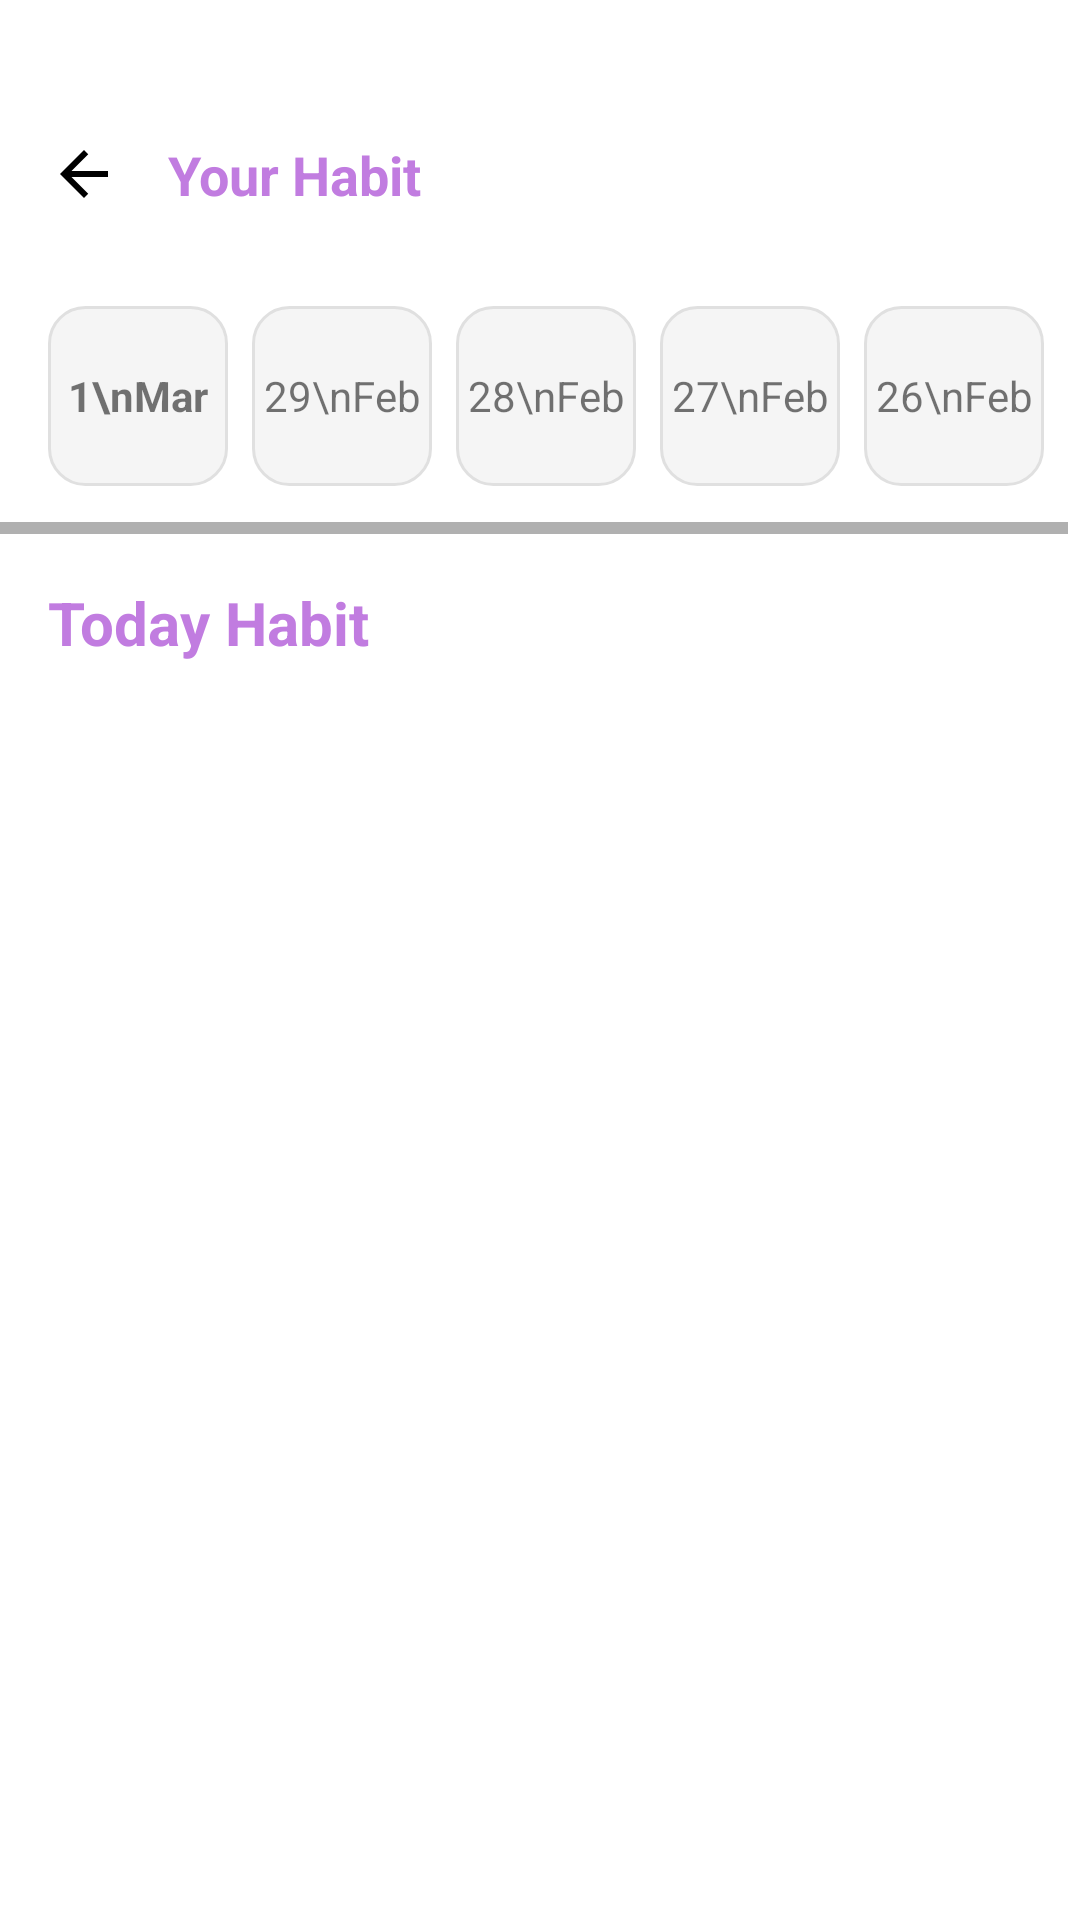

Icon click points for this 1080w x 1920h phone screenshot, format (x=x, y=y):
back: (x=84, y=174)
